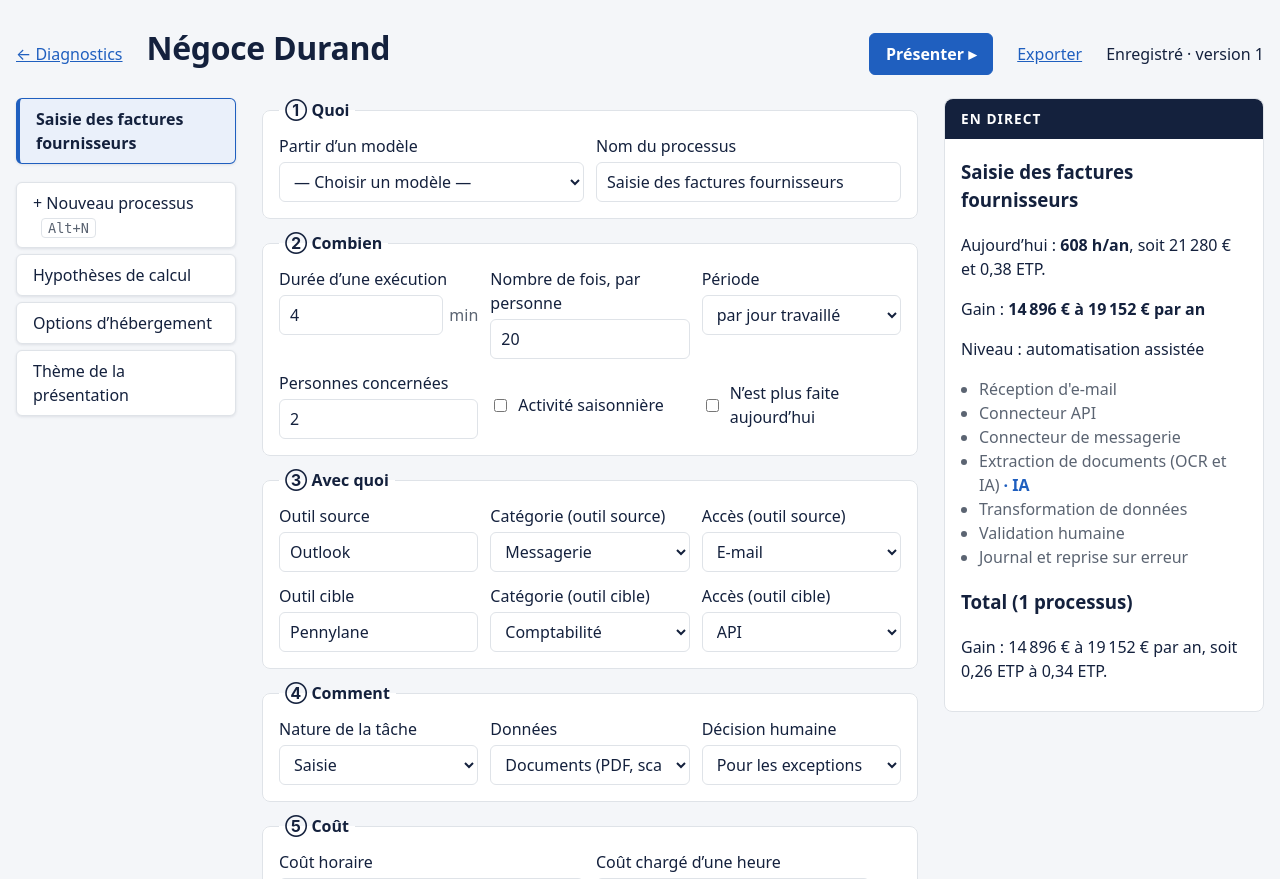
Test: Entretien › explique un enregistrement impossible
expect the heading "Négoce Durand" is shown: met, box [146, 26, 390, 69]
Type " bis" into the field labelled "Nom du processus".
click(748, 182); type(" bis")  # box [596, 162, 901, 202]
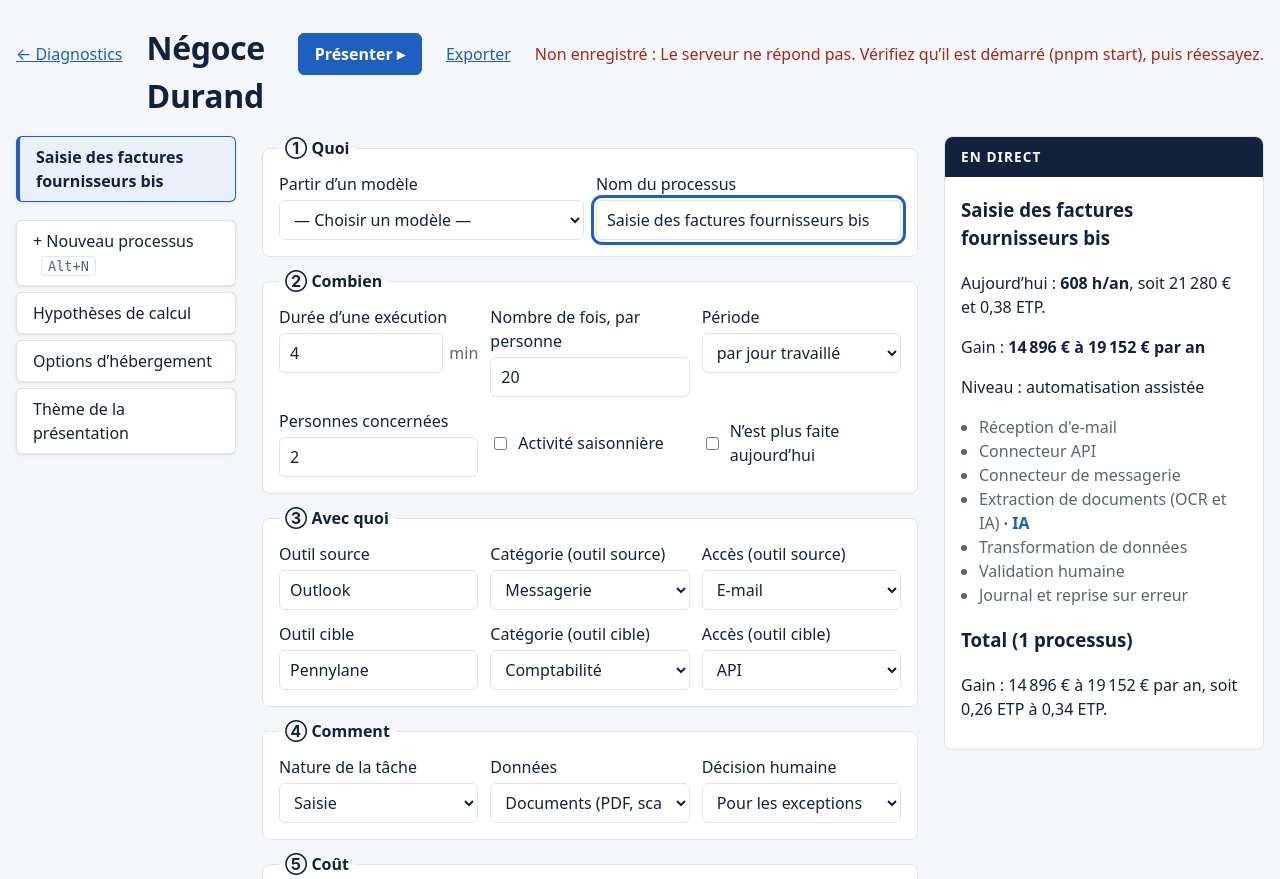
expect the message shows "Non enregistré : Le serveur ne répond pas": met, box [535, 42, 1264, 66]
